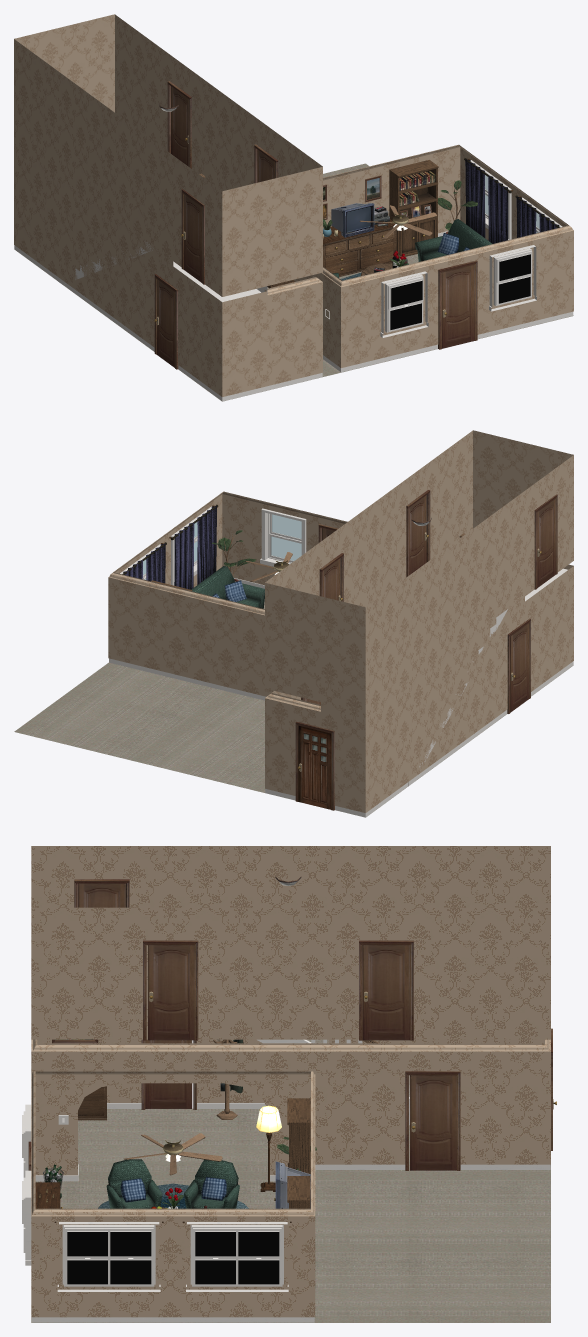
The model's file is Room.glb.
The picture shows the model from 3 angles, top to bottom: view 1: azimuth 30°, elevation 25°; view 2: azimuth 150°, elevation 25°; view 3: azimuth 270°, elevation 25°; orthographic projection. The views are drawn at different scales.
Visible parts, largest first — view 1: Room-col, Drawer-col, Shelf.001-col, Window.001-col, Curtains.001, DoorHallway-col, Window-col, Door.002, Door.002-col, Sofa-col, TV, Door.001 (+7 smaller); view 2: Room-col, DoorEntrance-col, Curtains, Window.001-col, Door.002-col, Door.002, Sofa-col, Door.004, Curtains.001, Doorframe.004, Doorframe.003, Door.001 (+4 smaller); view 3: Room-col, WindowWide-col, WindowWide.001-col, Door.001, Door.001-col, Door.004, Sofa Chair.001-col, Sofa Chair-col, Shelf-col, Door.002-col, Door.002, Doorframe.003 (+10 smaller).
Boxes of the visible parts, <box> form: Room-col: <box>14,14,573,401</box>; Drawer-col: <box>323,219,396,276</box>; Shelf.001-col: <box>389,160,438,258</box>; Window.001-col: <box>489,245,536,311</box>; Curtains.001: <box>464,158,513,243</box>; DoorHallway-col: <box>442,264,474,348</box>; Window-col: <box>380,271,428,337</box>; Door.002: <box>181,194,202,282</box>; Door.002-col: <box>154,279,174,367</box>; Sofa-col: <box>415,219,492,261</box>; TV: <box>331,203,374,237</box>; Door.001: <box>171,86,188,166</box>; Room-col: <box>14,430,573,817</box>; DoorEntrance-col: <box>298,725,331,809</box>; Curtains: <box>169,504,218,589</box>; Window.001-col: <box>260,508,306,566</box>; Door.002-col: <box>510,623,529,712</box>; Door.002: <box>537,499,555,587</box>; Sofa-col: <box>191,566,264,608</box>; Door.004: <box>409,495,428,574</box>; Curtains.001: <box>122,542,166,583</box>; Doorframe.004: <box>295,721,334,810</box>; Doorframe.003: <box>406,490,430,577</box>; Door.001: <box>323,558,342,601</box>; Room-col: <box>31,846,550,1322</box>; WindowWide-col: <box>57,1222,160,1291</box>; WindowWide.001-col: <box>186,1222,288,1291</box>; Door.001: <box>362,945,410,1040</box>; Door.001-col: <box>410,1075,456,1170</box>; Door.004: <box>148,945,194,1040</box>; Sofa Chair.001-col: <box>106,1159,162,1208</box>; Sofa Chair-col: <box>184,1159,239,1208</box>; Shelf-col: <box>287,1098,310,1174</box>; Door.002-col: <box>145,1039,192,1108</box>; Door.002: <box>78,883,125,907</box>; Doorframe.003: <box>143,940,198,1040</box>.
Size of the model in its own units: 10.1 by 5.69 by 10.84.
57 materials, 48 textured.
